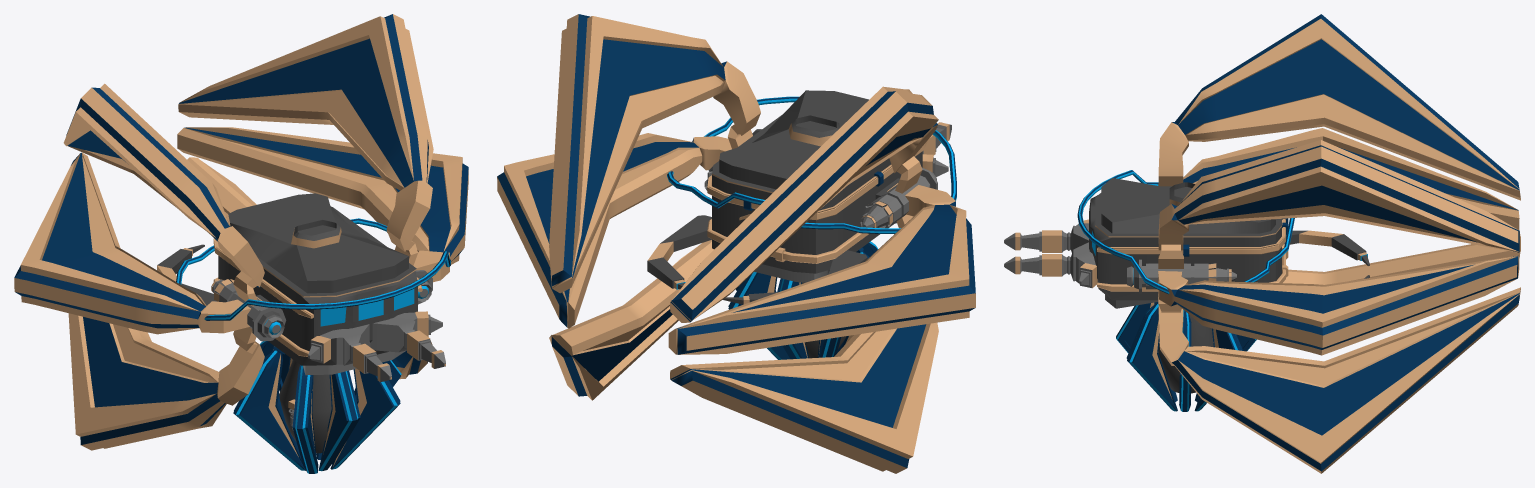
Rendered from Pirate Ship_Kashpruk.fbx.
3 renders of one model, left to right at view 1: azimuth 30°, elevation 25°; view 2: azimuth 150°, elevation 25°; view 3: azimuth 270°, elevation 25°, orthographic. The views are drawn at different scales.
Parts seen in each view (by area): view 1: polySurface238; view 2: polySurface238; view 3: polySurface238.
Part boxes in pixels (box(x1,y1,x2,y2)): polySurface238: box(14, 14, 468, 473); polySurface238: box(497, 14, 975, 473); polySurface238: box(1004, 14, 1520, 473).
Size of the model in its own units: 9738 by 7484 by 10634.
